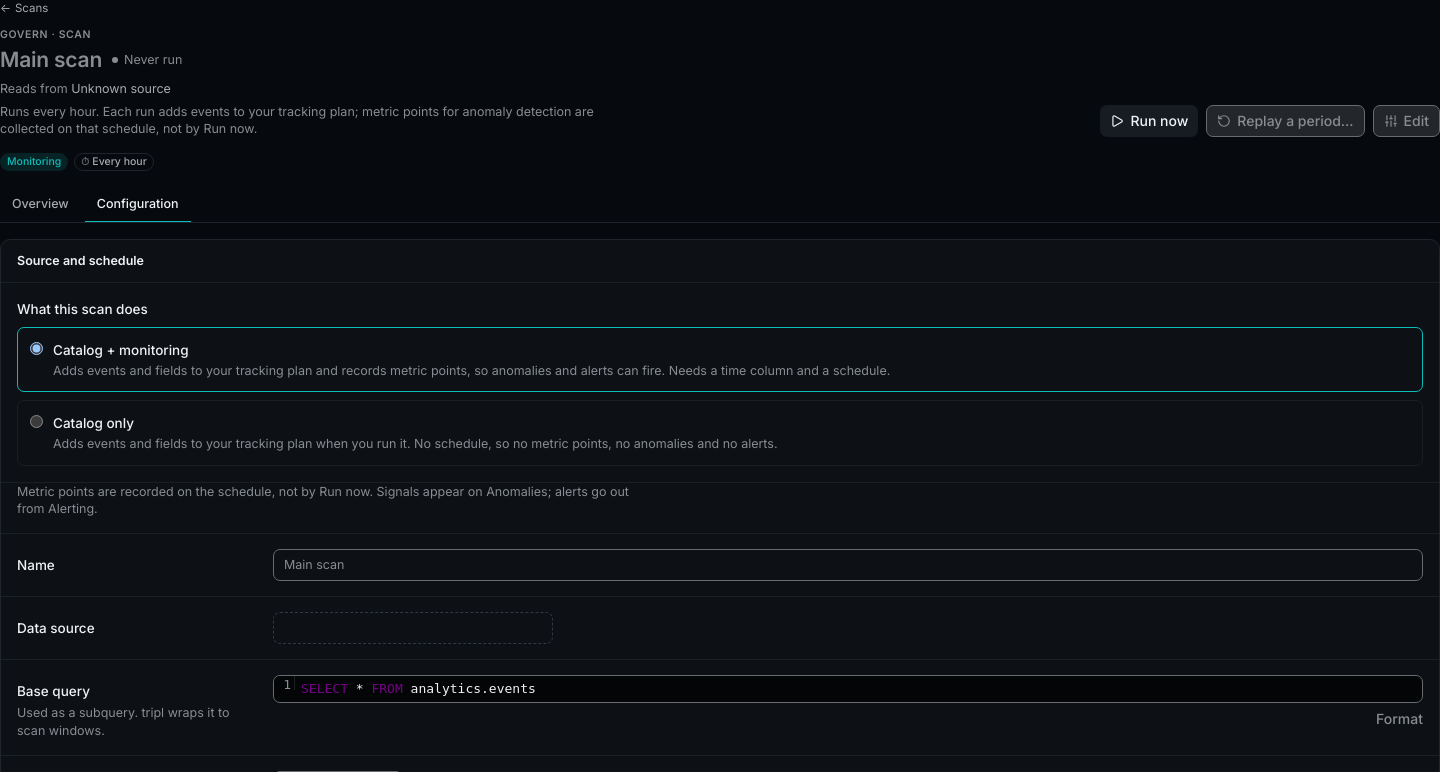
Test: ScanConfigDetail — unsaved configuration edits (DATA-12) › opens Replay from the header as a dialog, not from the Danger zone (#247 DA-8)
Click the button "Replay a period…" at (1285, 121), box [1206,105,1365,137]
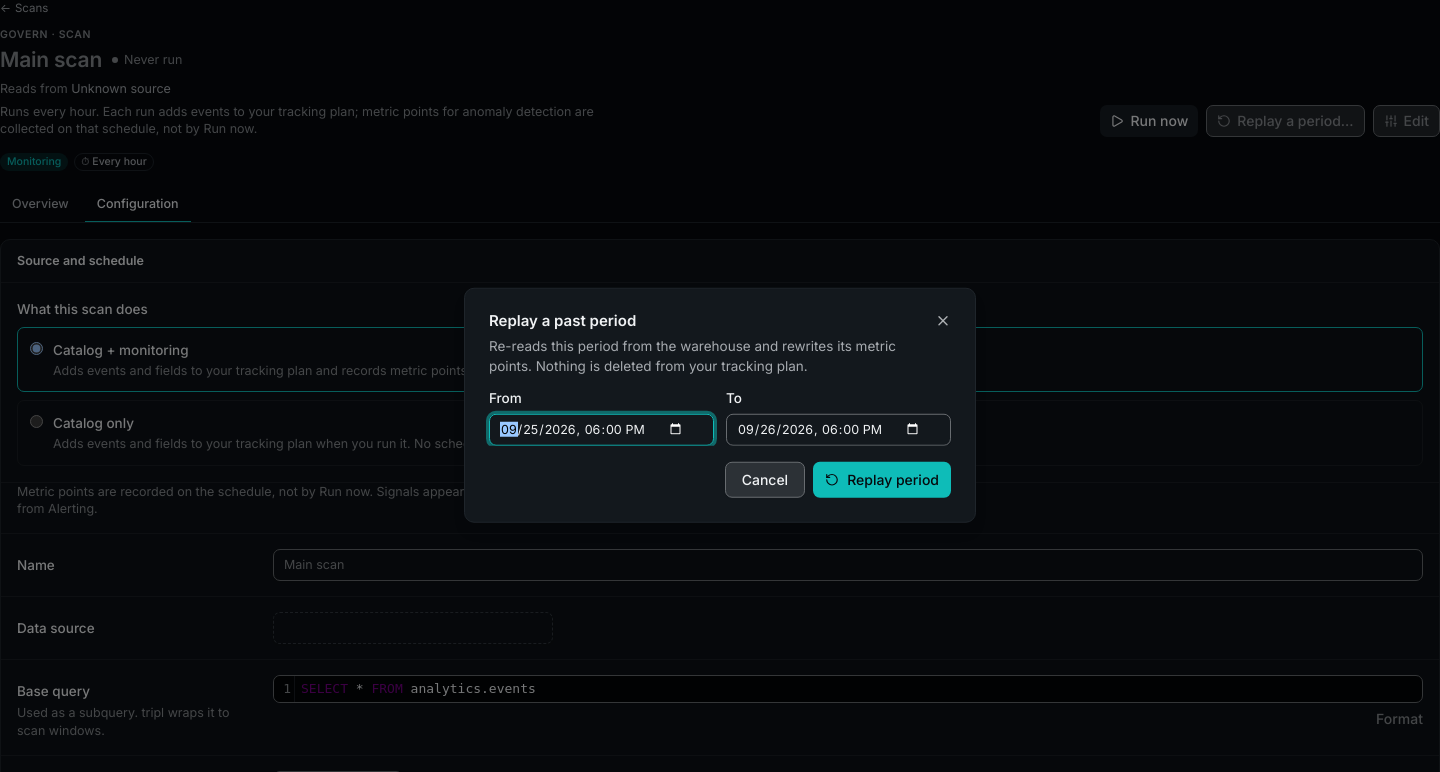
Expected: the dialog "Replay a past period" is shown, [464,288,976,522]
